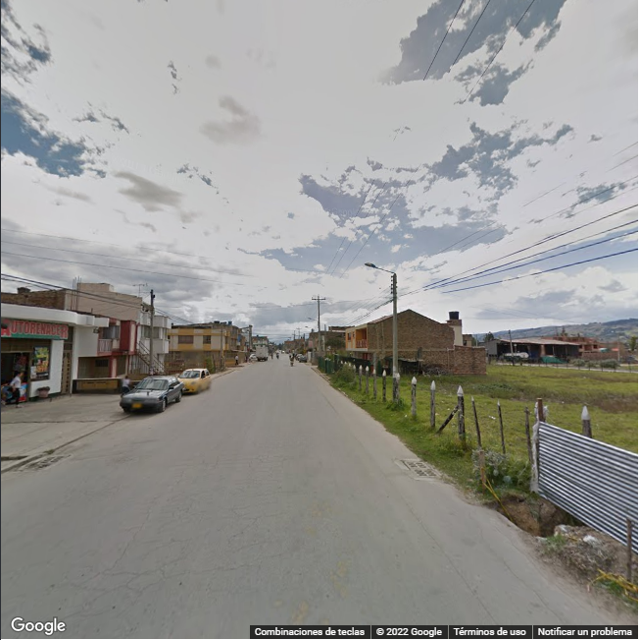D00: (386, 479, 494, 621), (100, 478, 172, 575), (55, 584, 107, 627), (117, 555, 185, 583), (120, 581, 147, 620), (236, 509, 253, 548)
D10: (180, 560, 262, 571)
